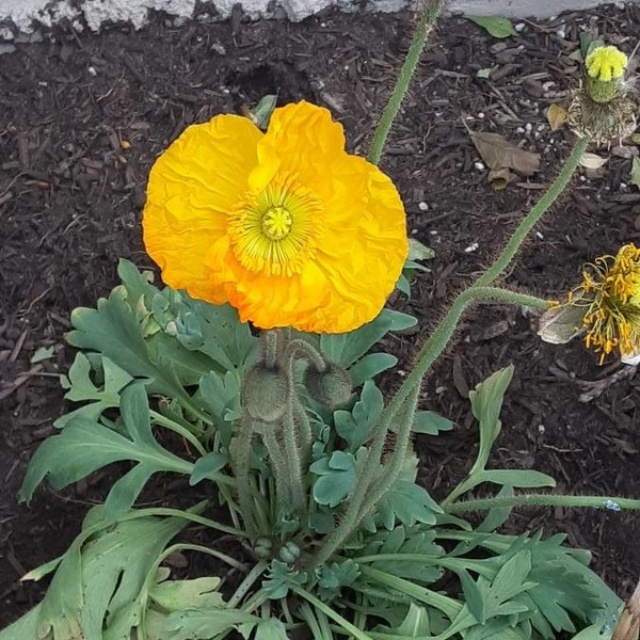obstacle: (32, 97, 583, 620)
